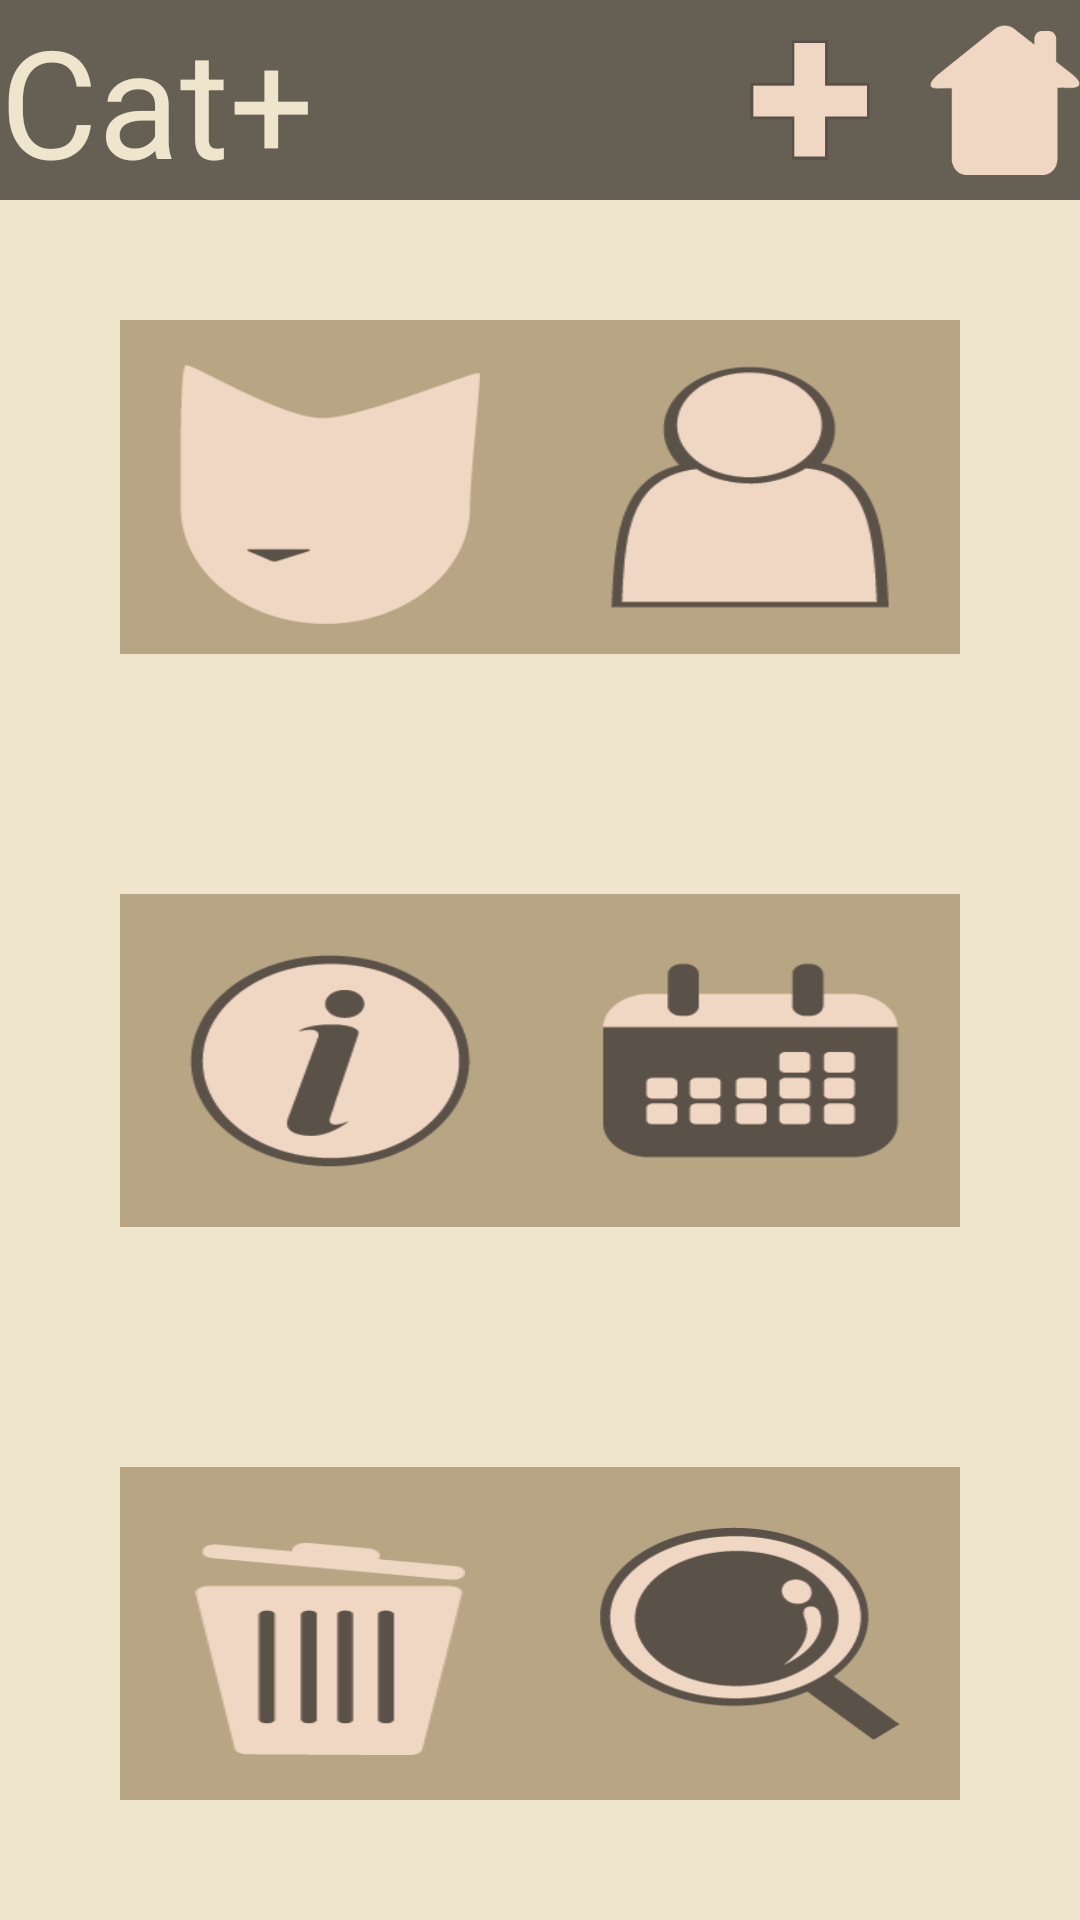

Point at icon controls on the screen. Image size 1080px x 1920px, points as point (x, y).
cat: point (330, 494)
